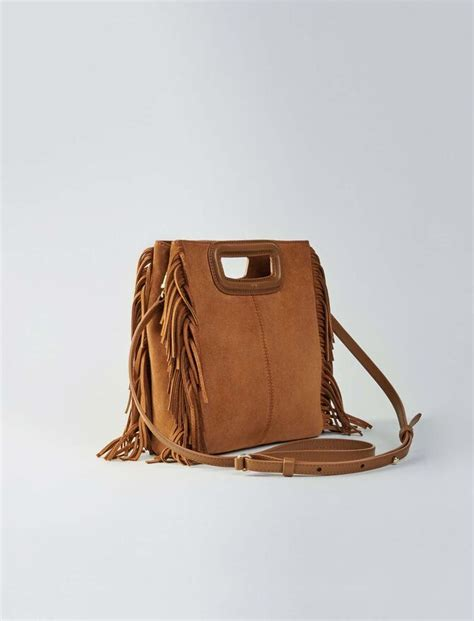gamuza: (99, 238, 371, 465)
